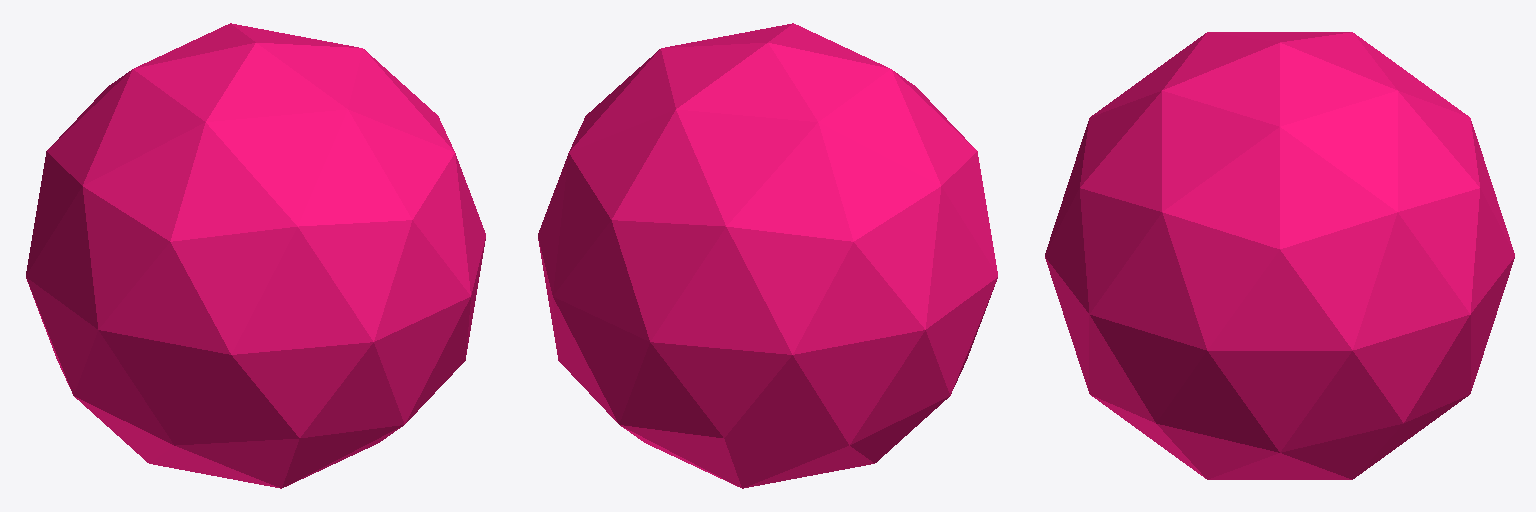
The picture shows the model from 3 angles: view 1: azimuth 30°, elevation 25°; view 2: azimuth 150°, elevation 25°; view 3: azimuth 270°, elevation 25°; orthographic projection.
Visible parts, largest first — view 1: ICO球; view 2: ICO球; view 3: ICO球.
Boxes of the visible parts, box(x1,y1,x2,y2) form: ICO球: box(26, 23, 485, 488); ICO球: box(538, 23, 997, 488); ICO球: box(1045, 32, 1514, 479).
Bounding box in the file's own units: 9.51 × 10 × 10.